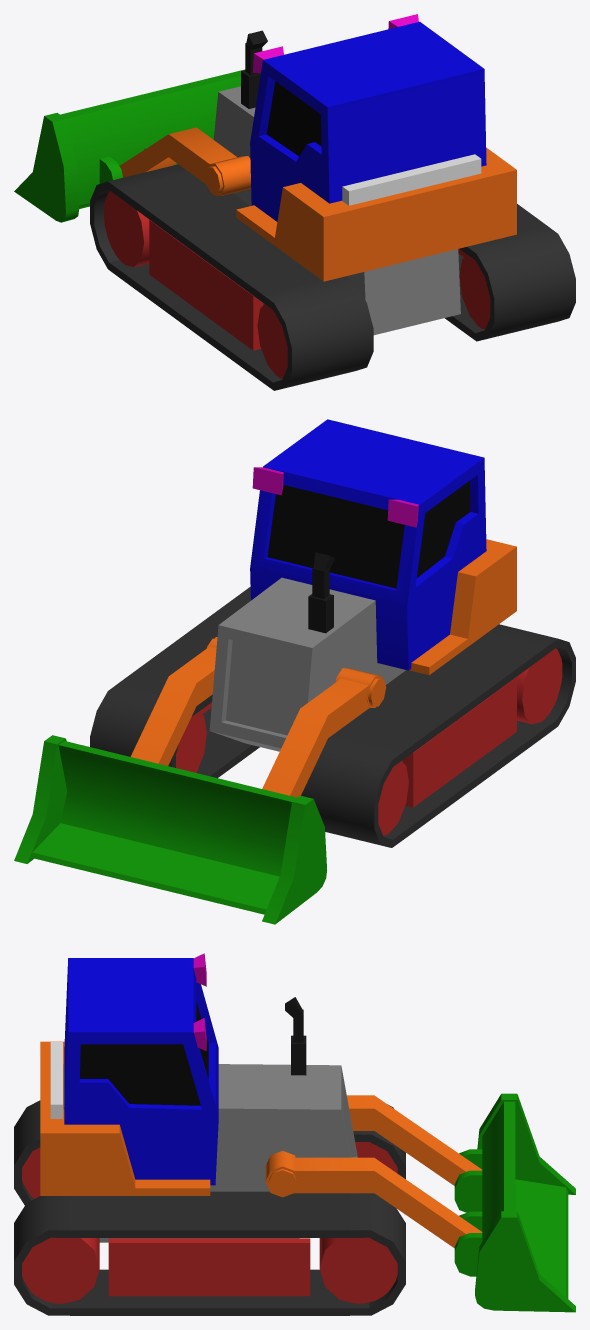
The model's file is Bulldozer_03_1.fbx.
The picture shows the model from 3 angles, top to bottom: view 1: azimuth 30°, elevation 25°; view 2: azimuth 150°, elevation 25°; view 3: azimuth 270°, elevation 25°; orthographic projection. The views are drawn at different scales.
Parts seen in each view (by area): view 1: DozerCabine, DozerTrack_L, DozerFork.001, DozerTrack_R, Dozer.002, DozerTrackPlate_L, DozerForkLift_L, DozerTrackRoller_LF, DozerTrackRoller_RR, DozerTrackRoller_LR, DozerChimney; view 2: DozerCabine, DozerFork.001, DozerTrack_L, Dozer.002, DozerTrack_R, DozerForkLift_L, DozerTrackPlate_L, DozerForkLift_R, DozerTrackRoller_LR, DozerChimney, DozerTrackRoller_LF, DozerTrackRoller_RF (+2 smaller); view 3: DozerCabine, DozerTrack_R, DozerFork.001, Dozer.002, DozerTrackPlate_R, DozerForkLift_R, DozerTrackRoller_RF, DozerTrackRoller_RR, DozerForkLift_L, DozerTrack_L, DozerChimney, DozerTrackRoller_LR (+1 smaller).
Part boxes in pixels (x1,y1,x2,y2): DozerCabine: (236,21,516,281); DozerTrack_L: (90,164,373,390); DozerFork.001: (14,69,245,222); DozerTrack_R: (445,204,575,341); Dozer.002: (213,86,460,335); DozerTrackPlate_L: (149,220,263,350); DozerForkLift_L: (119,127,251,195); DozerTrackRoller_LF: (104,191,149,267); DozerTrackRoller_RR: (459,254,490,329); DozerTrackRoller_LR: (257,304,287,378); DozerChimney: (241,30,267,108); DozerCabine: (250,419,516,675); DozerFork.001: (14,735,326,924); DozerTrack_L: (301,624,575,847); Dozer.002: (209,577,405,751); DozerTrack_R: (90,586,259,778); DozerForkLift_L: (262,668,386,797); DozerTrackPlate_L: (403,677,516,807); DozerForkLift_R: (130,637,217,765); DozerTrackRoller_LR: (517,648,562,724); DozerChimney: (308,552,334,633); DozerTrackRoller_LF: (378,761,408,835); DozerTrackRoller_RF: (176,711,206,772); DozerCabine: (40,958,218,1195); DozerTrack_R: (14,1191,405,1315); DozerFork.001: (454,1093,575,1312); Dozer.002: (63,1062,357,1242); DozerTrackPlate_R: (108,1238,310,1296); DozerForkLift_R: (265,1150,482,1247); DozerTrackRoller_RF: (319,1237,397,1303); DozerTrackRoller_RR: (22,1237,99,1303); DozerForkLift_L: (347,1095,482,1185); DozerTrack_L: (14,1100,405,1205); DozerChimney: (285,997,306,1075); DozerTrackRoller_LR: (22,1147,40,1198).
Size of the model in its own units: 7.1 by 12.53 by 6.36.
